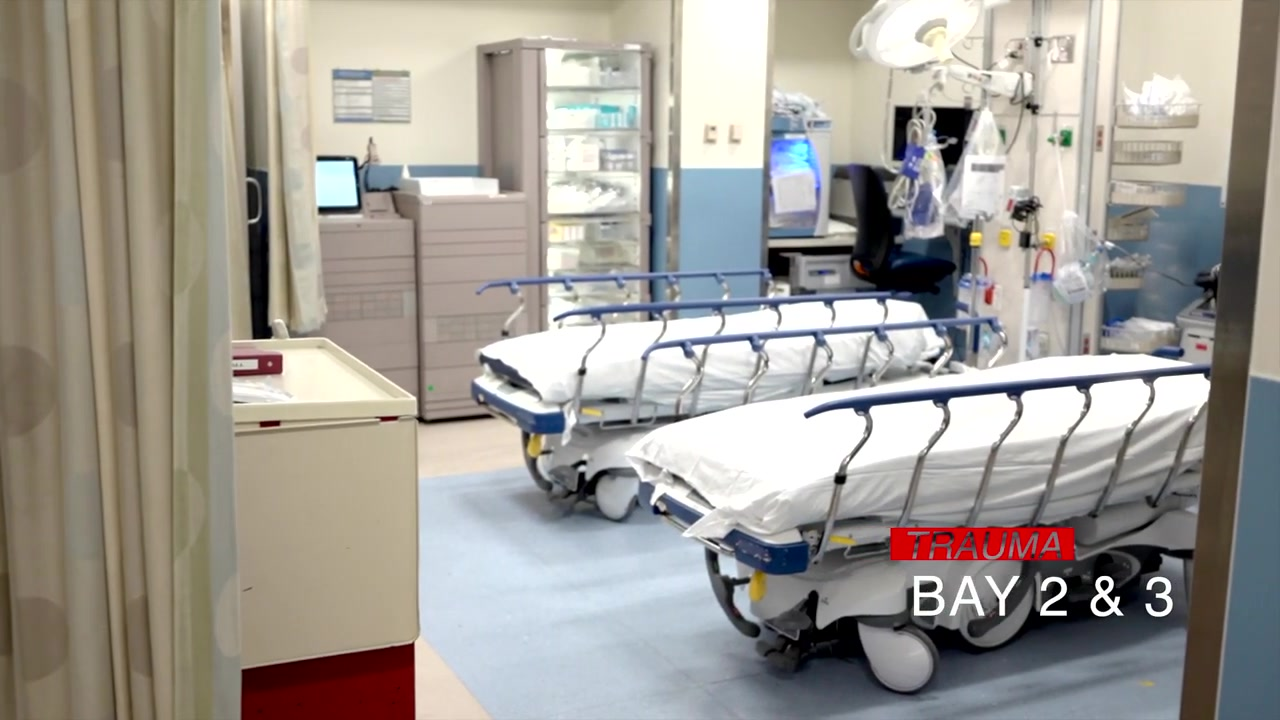bedrail: (807, 362, 1207, 557), (550, 291, 915, 425), (641, 316, 1007, 422), (477, 270, 773, 339)
bedside_monitor: (310, 154, 362, 215)
cabinet: (477, 39, 652, 325)
chair: (844, 161, 957, 291)
curtain: (1, 1, 246, 720), (227, 1, 331, 336)
drawer: (396, 185, 526, 421), (312, 219, 418, 396)
handle: (246, 177, 266, 228)
hospital_bed: (619, 354, 1212, 688), (468, 269, 940, 521)
iv_pole: (1003, 35, 1074, 309), (958, 34, 995, 308)
surgical_light: (845, 1, 982, 70)
